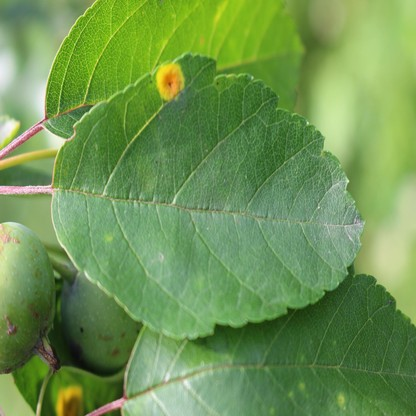rust: (156, 63, 185, 102), (56, 385, 82, 416), (337, 394, 341, 405)
